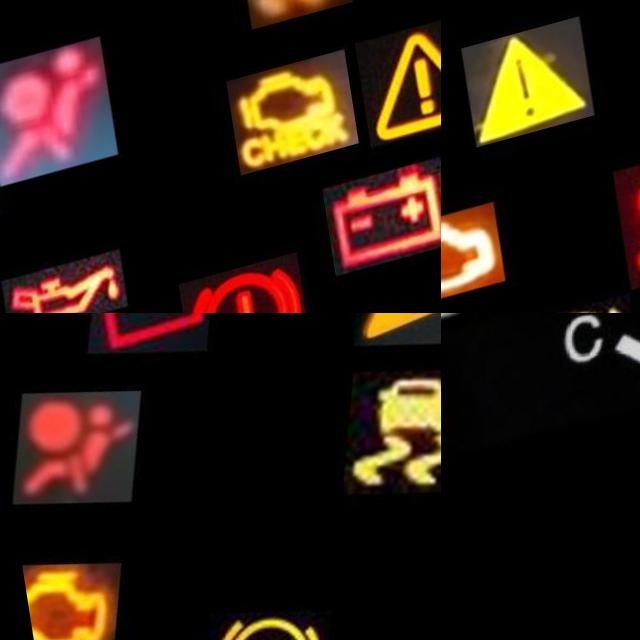Central Warning lamp: (457, 37, 587, 162), (348, 45, 441, 176), (330, 313, 441, 393)
